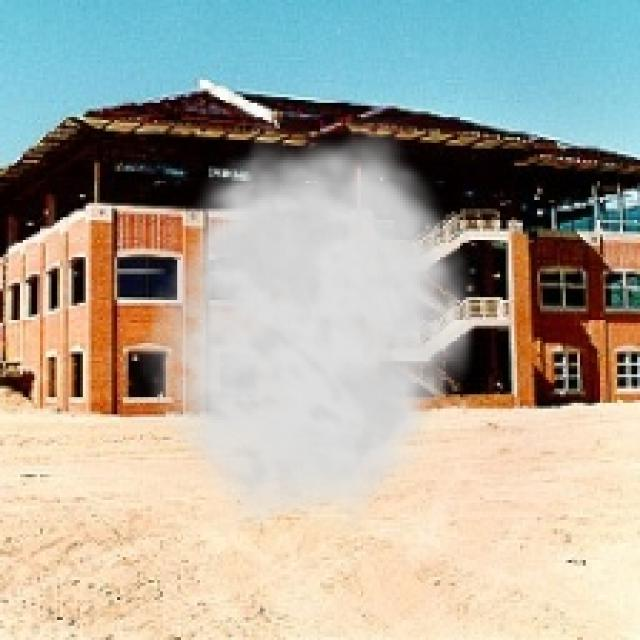smoke: (131, 117, 486, 534)
